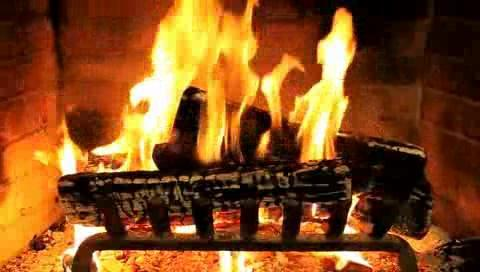fire: (48, 1, 372, 173), (330, 192, 372, 269), (61, 220, 115, 265), (211, 251, 262, 270)
